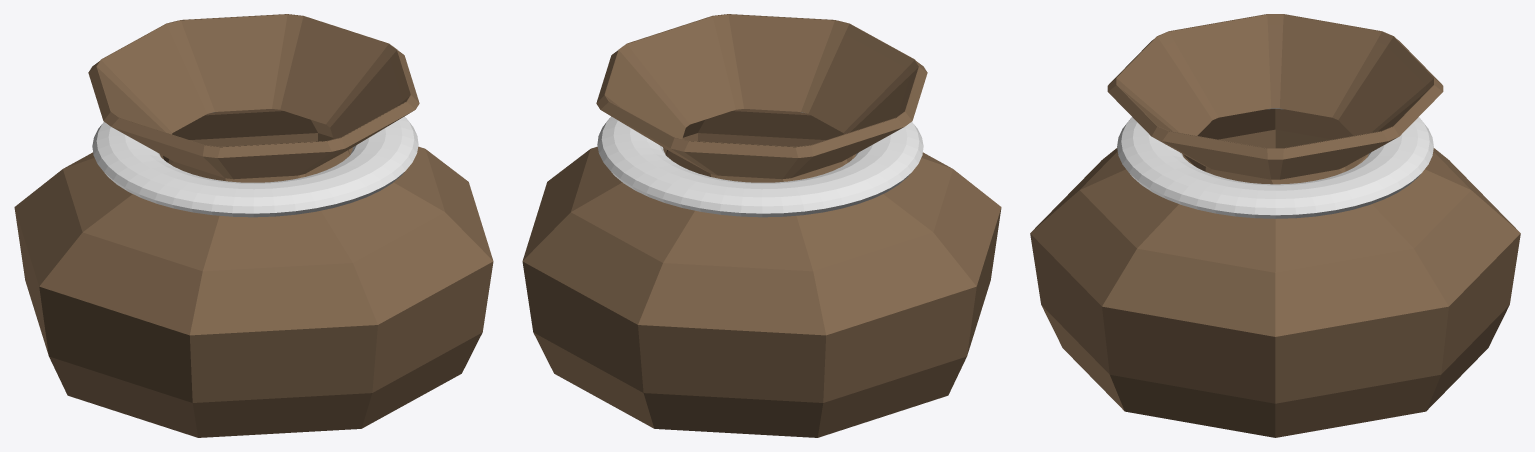
The model's file is sacodemoeda.fbx.
3 renders of one model, left to right at view 1: azimuth 30°, elevation 25°; view 2: azimuth 150°, elevation 25°; view 3: azimuth 270°, elevation 25°, orthographic.
Visible parts, largest first — view 1: SACO DE MOEDA; view 2: SACO DE MOEDA; view 3: SACO DE MOEDA.
Boxes of the visible parts, left/top/right/bottom form: SACO DE MOEDA: left=14, top=14, right=493, bottom=437; SACO DE MOEDA: left=522, top=14, right=1001, bottom=437; SACO DE MOEDA: left=1030, top=14, right=1520, bottom=437.
Bounding box in the file's own units: 407 × 254 × 407.
